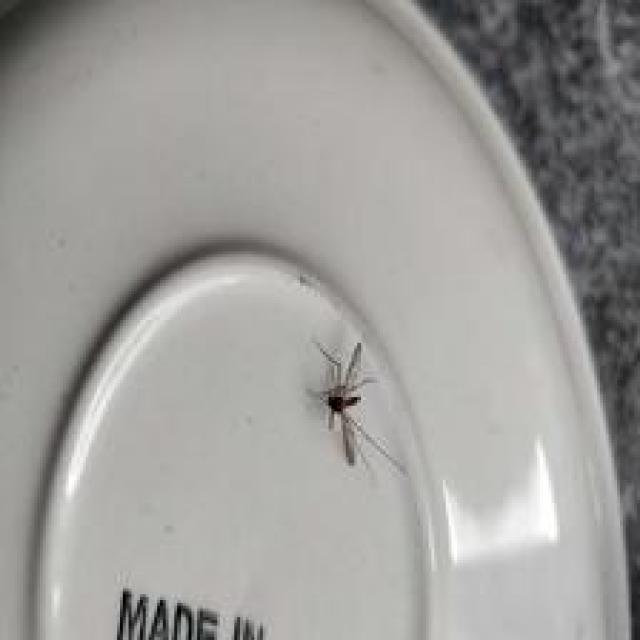Culex: (306, 337, 408, 477)
